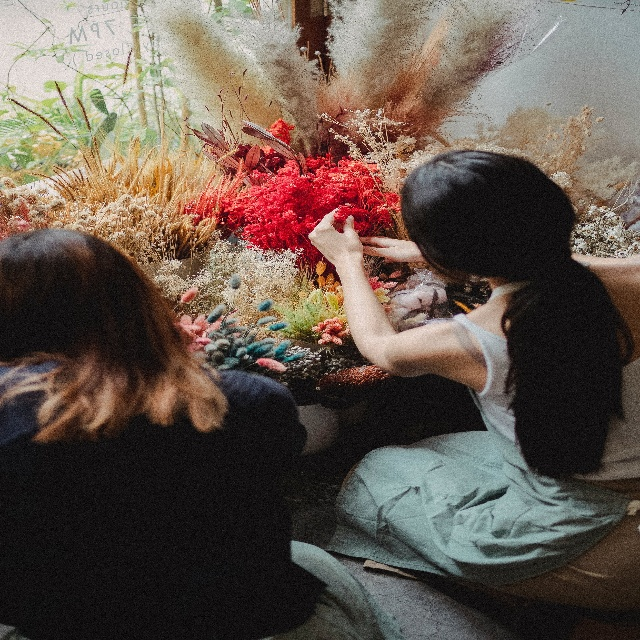Sin_guantes: (306, 206, 365, 271)
